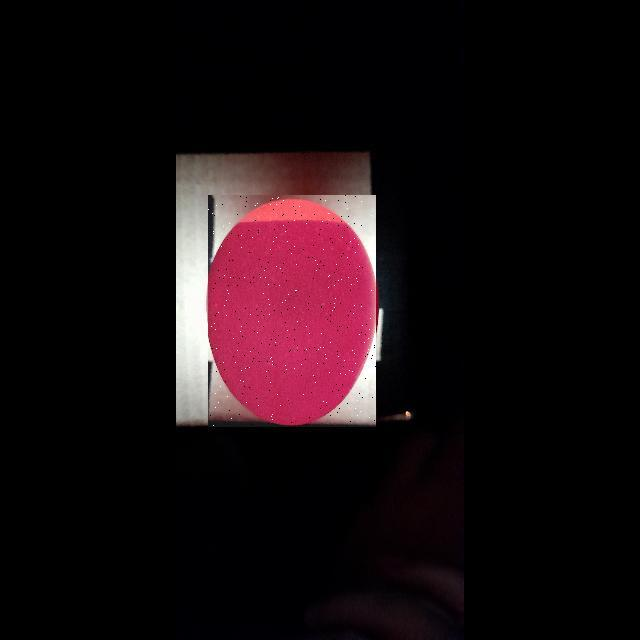Fertile: (208, 195, 376, 427)
